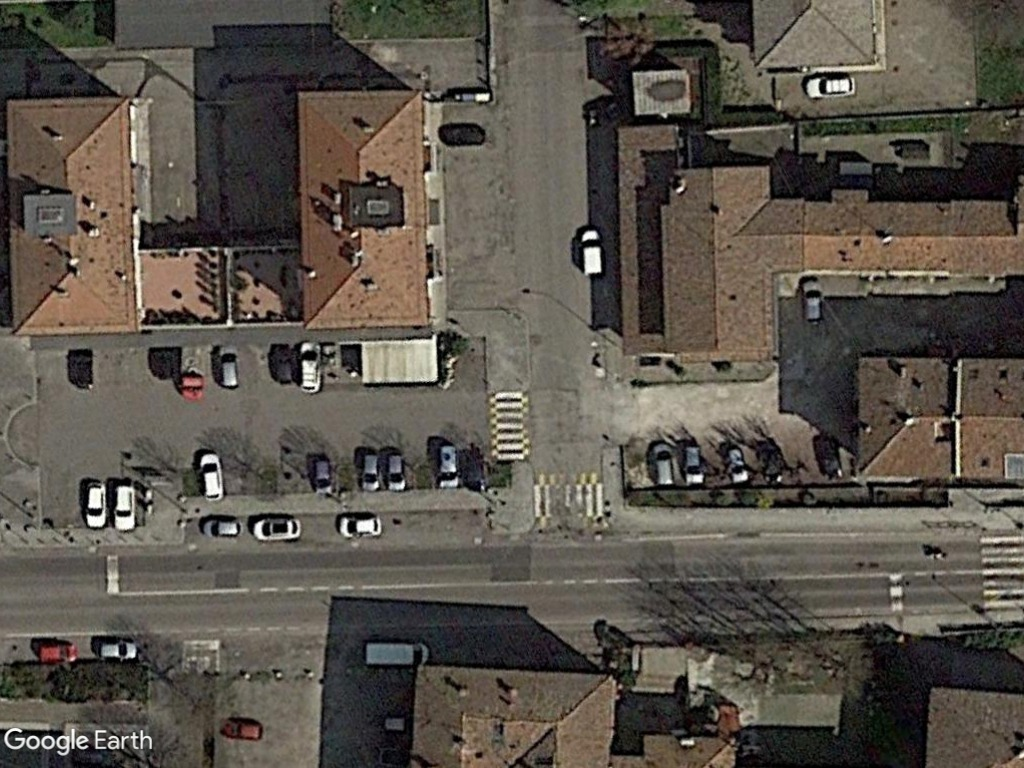car: (295, 336, 326, 399), (796, 72, 860, 102), (109, 481, 140, 536), (797, 275, 827, 331), (195, 449, 227, 500), (82, 478, 111, 534), (213, 342, 245, 392), (249, 514, 306, 542), (435, 438, 463, 494), (216, 713, 266, 744), (93, 638, 144, 667), (720, 442, 752, 488), (32, 639, 83, 667), (335, 512, 385, 539), (197, 514, 248, 540), (680, 441, 705, 493), (380, 448, 408, 494), (358, 448, 382, 498)
van: (359, 635, 433, 672), (577, 226, 609, 282), (647, 439, 679, 493)
